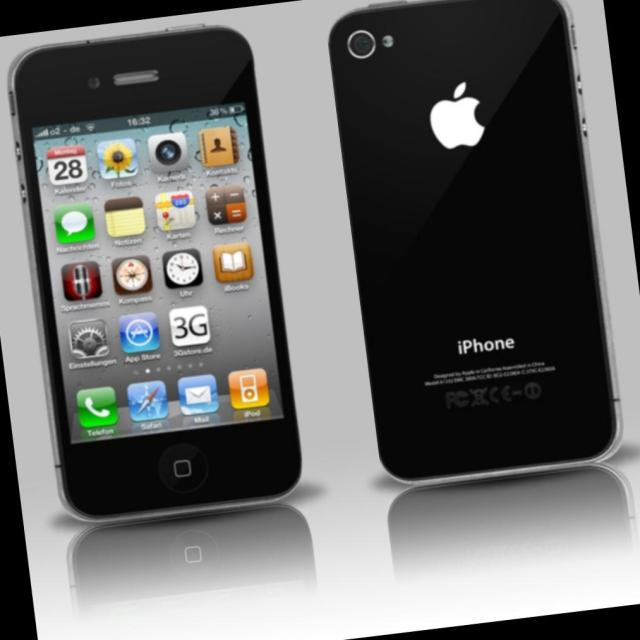handphone: (329, 2, 619, 480), (14, 38, 300, 514)
